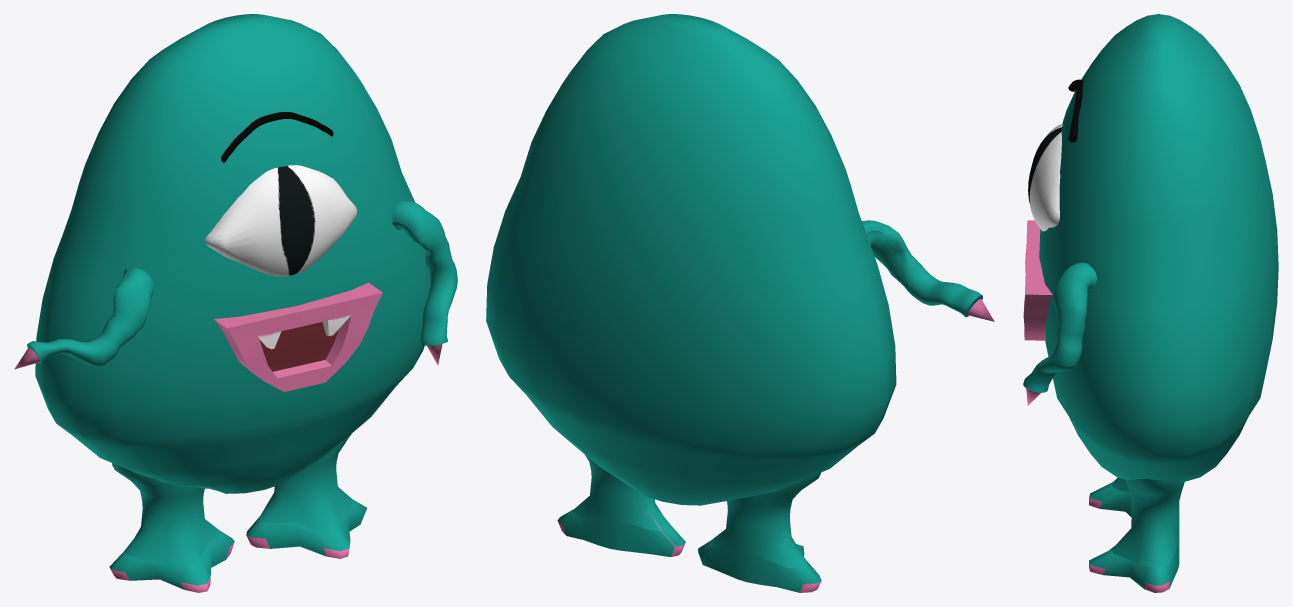
Rendered from xiaoguai1.fbx.
3 views of the same model, side by side, from view 1: azimuth 30°, elevation 25°; view 2: azimuth 150°, elevation 25°; view 3: azimuth 270°, elevation 25° (orthographic). The views are drawn at different scales.
Visible parts, largest first — view 1: pSphere1, pSphere2, pCube1, pCylinder3, pCylinder4, pasted__pCylinder1, pCylinder2; view 2: pSphere1, pCylinder3, pCylinder4, pCylinder2; view 3: pSphere1, pCylinder4, pasted__pCylinder1, pSphere2, pCube1, pCylinder3, pCylinder5.
Boxes of the visible parts, x1=… form: pSphere1: x1=35, y1=14, x2=430, y2=493; pSphere2: x1=205, y1=165, x2=356, y2=276; pCube1: x1=214, y1=282, x2=382, y2=391; pCylinder3: x1=109, y1=463, x2=234, y2=592; pCylinder4: x1=246, y1=434, x2=366, y2=558; pasted__pCylinder1: x1=392, y1=200, x2=457, y2=345; pCylinder2: x1=27, y1=268, x2=154, y2=367; pSphere1: x1=486, y1=14, x2=896, y2=505; pCylinder3: x1=698, y1=472, x2=821, y2=592; pCylinder4: x1=557, y1=455, x2=685, y2=557; pCylinder2: x1=862, y1=220, x2=982, y2=317; pSphere1: x1=1039, y1=14, x2=1278, y2=482; pCylinder4: x1=1089, y1=479, x2=1184, y2=592; pasted__pCylinder1: x1=1023, y1=262, x2=1096, y2=392; pSphere2: x1=1028, y1=123, x2=1062, y2=231; pCube1: x1=1023, y1=220, x2=1052, y2=340; pCylinder3: x1=1089, y1=477, x2=1131, y2=517; pCylinder5: x1=1068, y1=85, x2=1082, y2=142.
Size of the model in its own units: 6.06 by 6.78 by 3.09.
